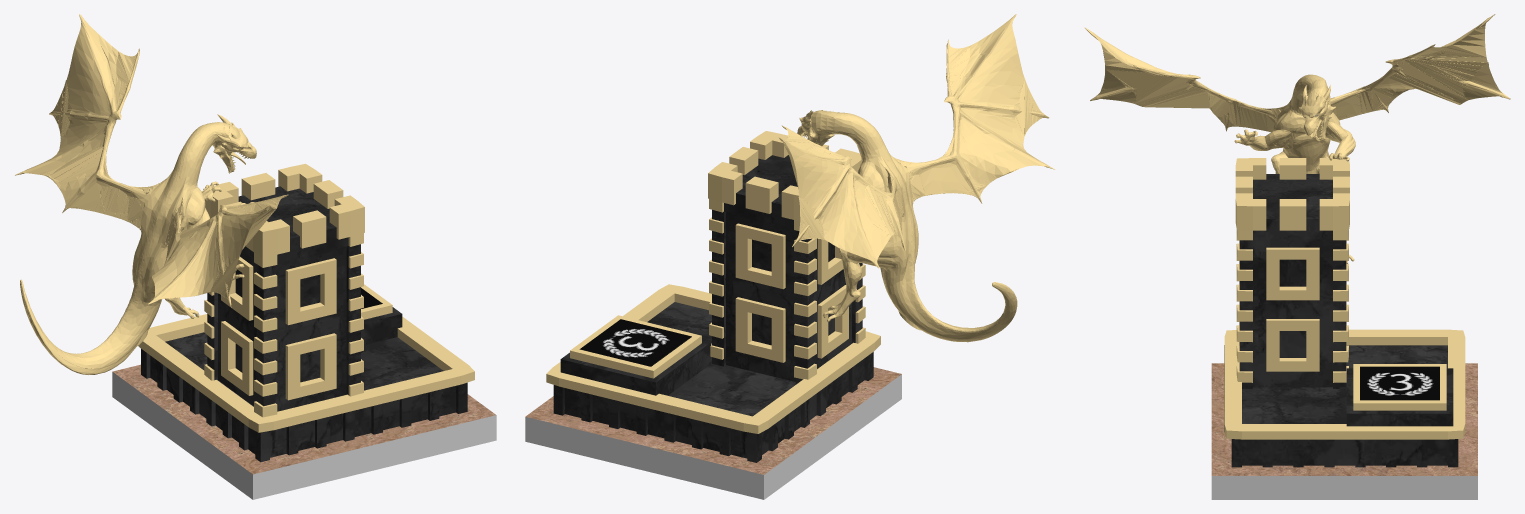
Rendered from buildingTorreMaravillas.glb.
3 views of the same model, side by side, from view 1: azimuth 30°, elevation 25°; view 2: azimuth 150°, elevation 25°; view 3: azimuth 270°, elevation 25° (orthographic). The views are drawn at different scales.
Visible parts, largest first — view 1: torreMaravillas; view 2: torreMaravillas; view 3: torreMaravillas.
Part boxes in pixels (x1,y1,x2,y2): torreMaravillas: [15, 14, 496, 499]; torreMaravillas: [525, 14, 1055, 499]; torreMaravillas: [1084, 14, 1510, 499].
Size of the model in its own units: 3.39 by 3 by 3.2.
Materials: 5 (3 with a texture image).
